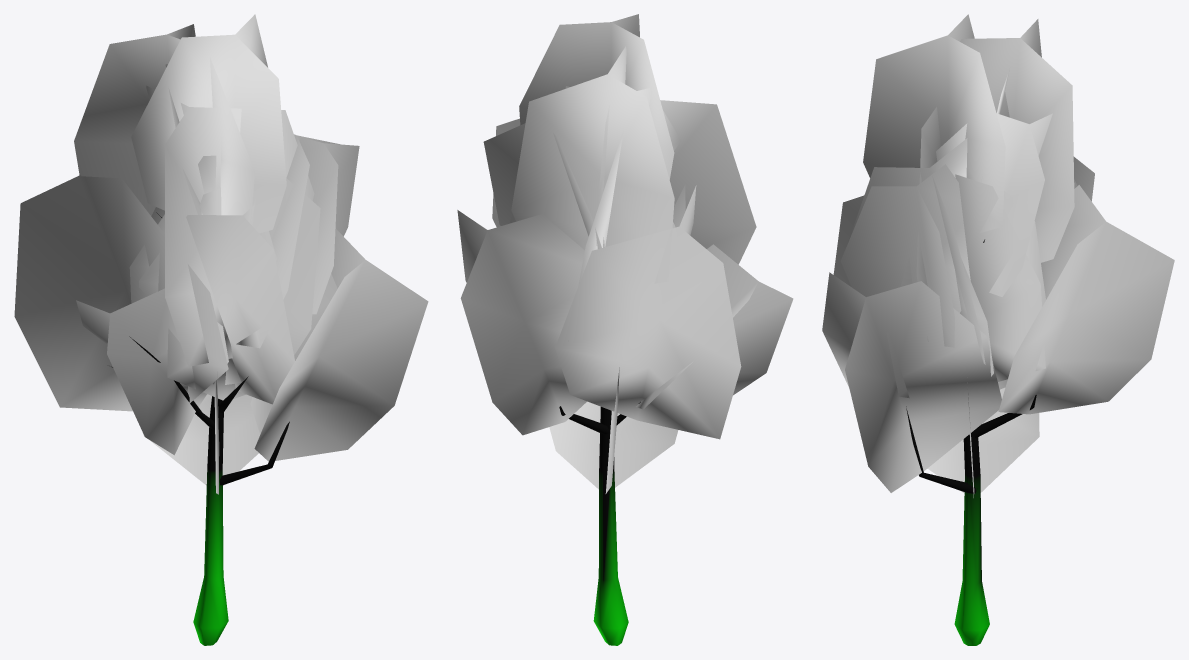
Rendered from SM_FirSapling2.FBX.
3 renders of one model, left to right at view 1: azimuth 30°, elevation 25°; view 2: azimuth 150°, elevation 25°; view 3: azimuth 270°, elevation 25°, orthographic.
Parts seen in each view (by area): view 1: SM_FirSapling2; view 2: SM_FirSapling2; view 3: SM_FirSapling2.
Boxes of the visible parts, x1=… form: SM_FirSapling2: x1=14, y1=14, x2=428, y2=645; SM_FirSapling2: x1=457, y1=14, x2=793, y2=645; SM_FirSapling2: x1=822, y1=14, x2=1174, y2=645.
Bounding box in the file's own units: 311 × 298 × 575.
